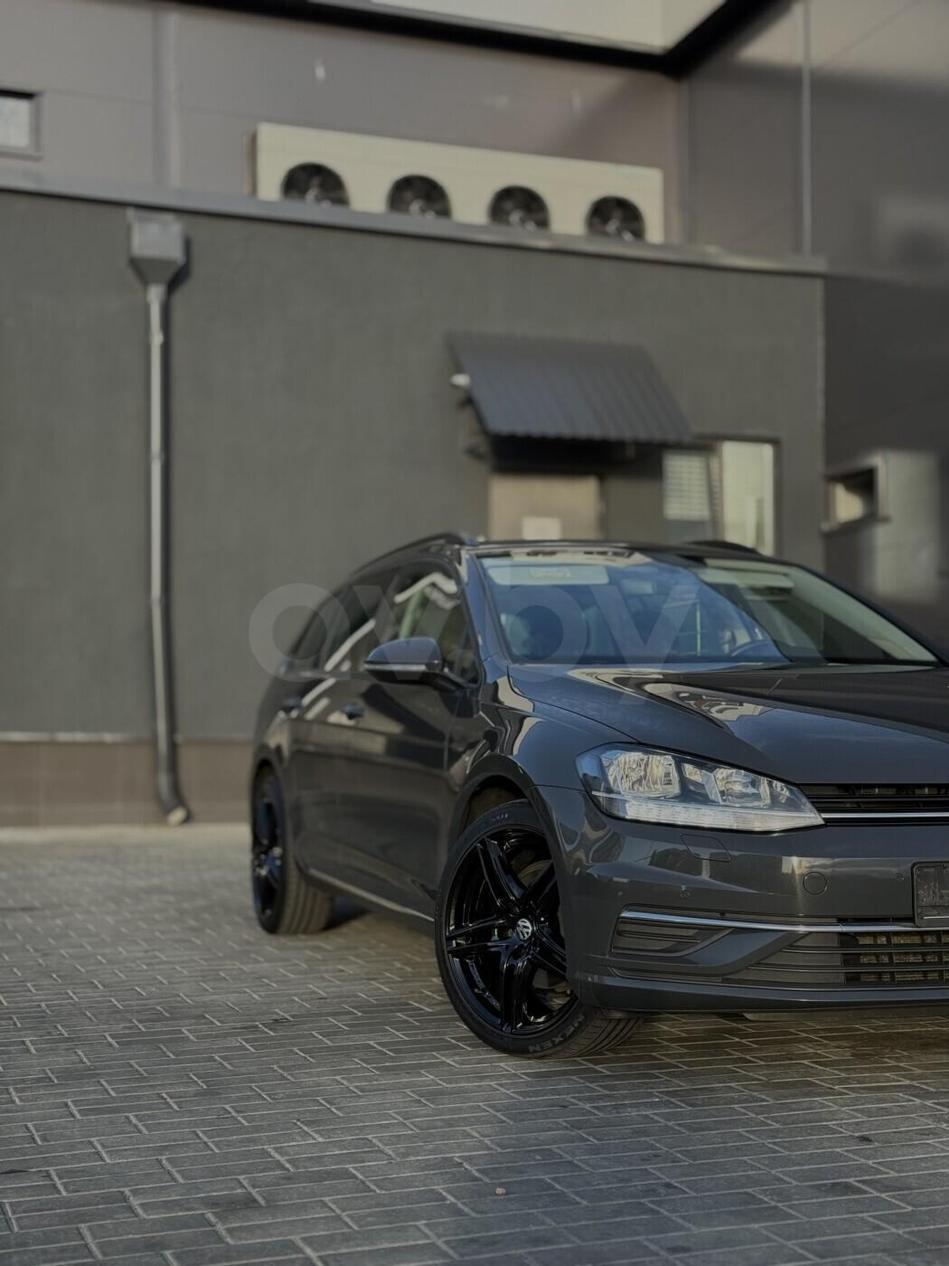Golf_2017-2021: (240, 532, 949, 1056)
